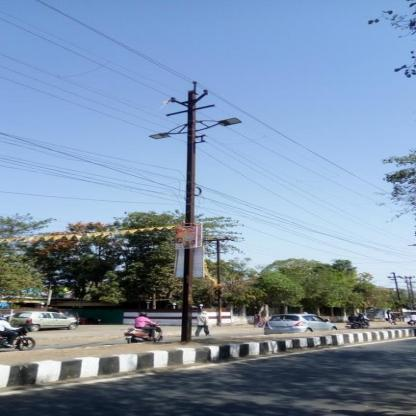Electrical Pole: (145, 76, 245, 341)
